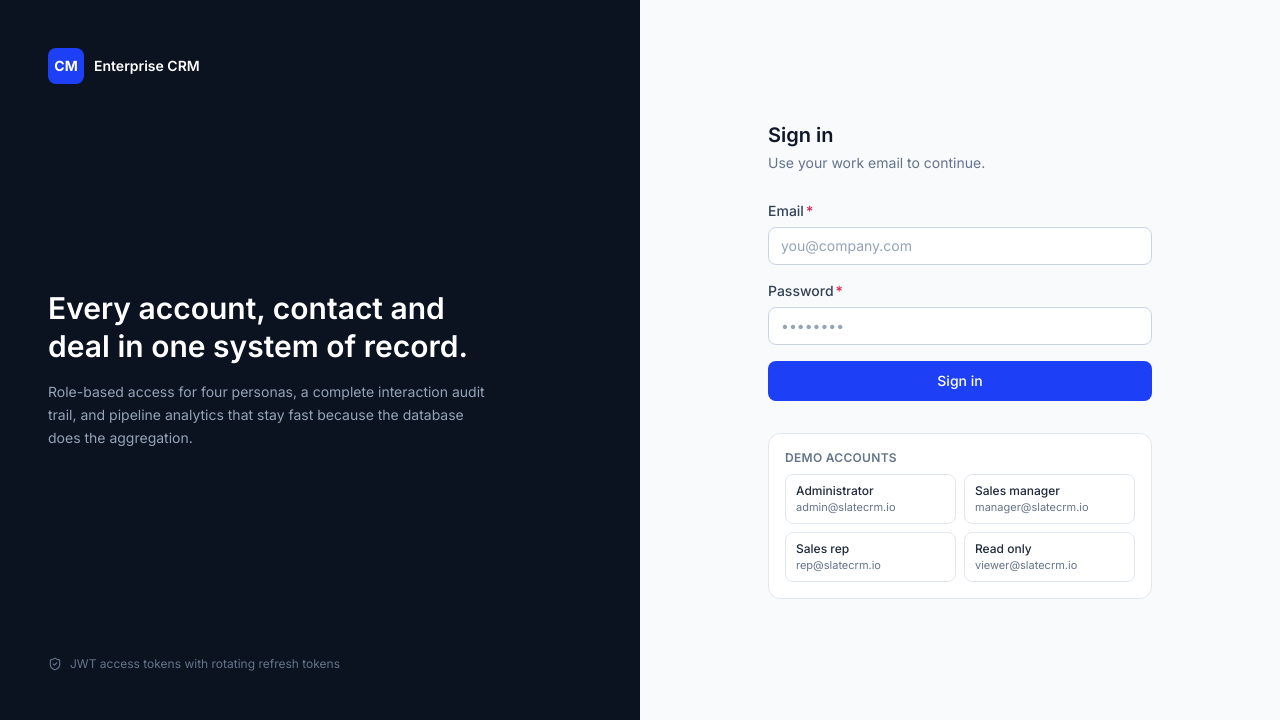
Test case: <LoginPage /> › surfaces the API message when authentication fails
Type "admin@slatecrm.io" into the field labelled "Email*".
click(960, 246); type("admin@slatecrm.io")  # box [768, 227, 1152, 265]
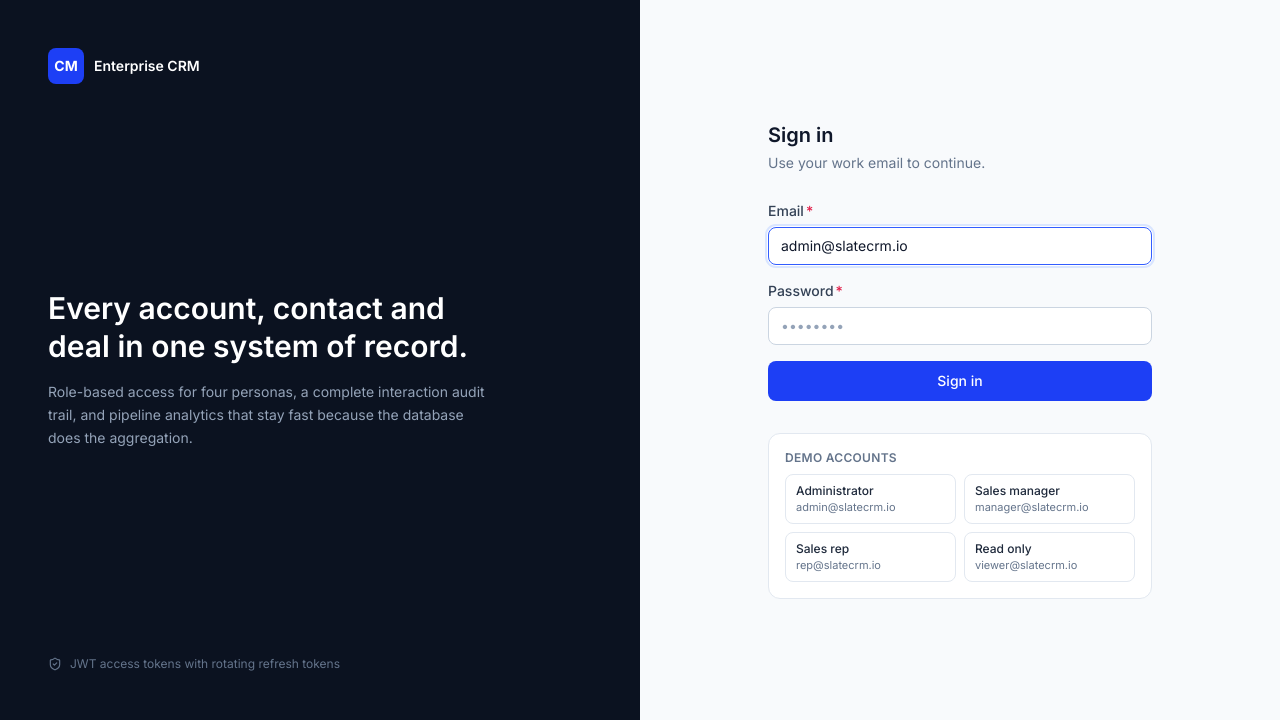
Type "WrongPassword1" into the password field labelled "Password*".
click(960, 326); type("WrongPassword1")  # box [768, 307, 1152, 345]
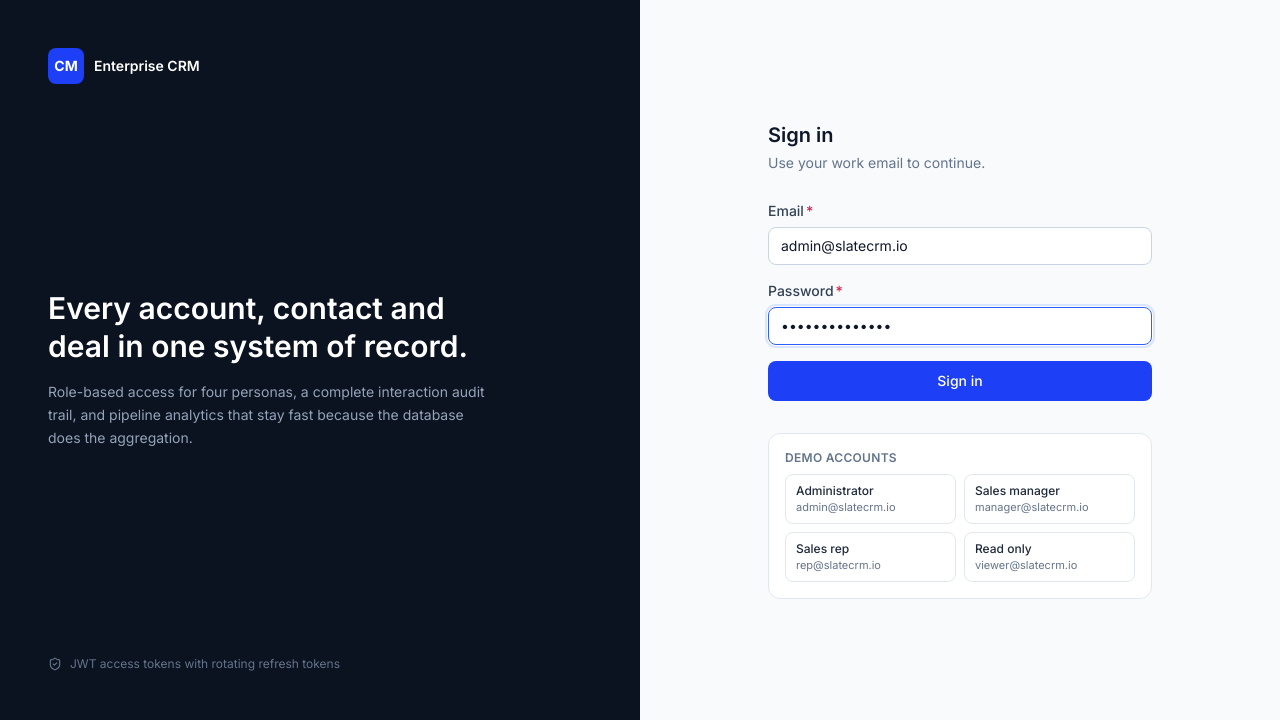
Click the button "Sign in".
click(960, 381)  # box [768, 361, 1152, 401]
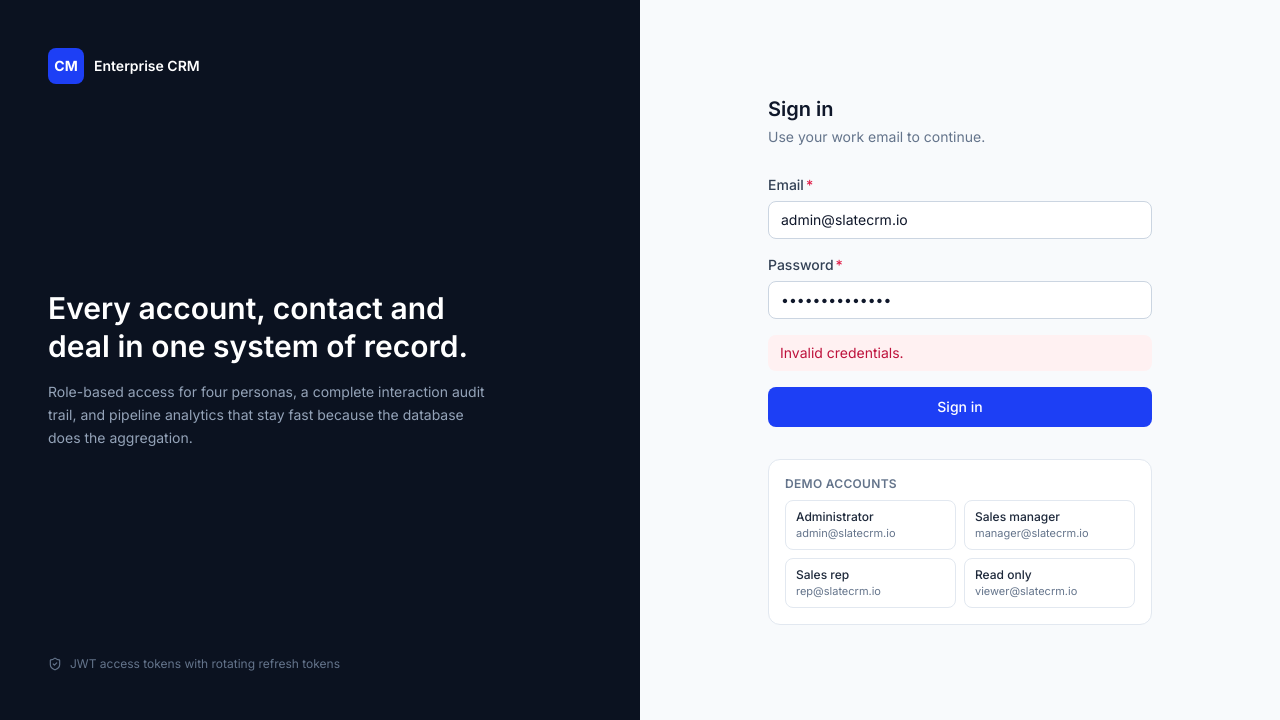
Now the message reads "Invalid credentials.", box [780, 344, 904, 361]
